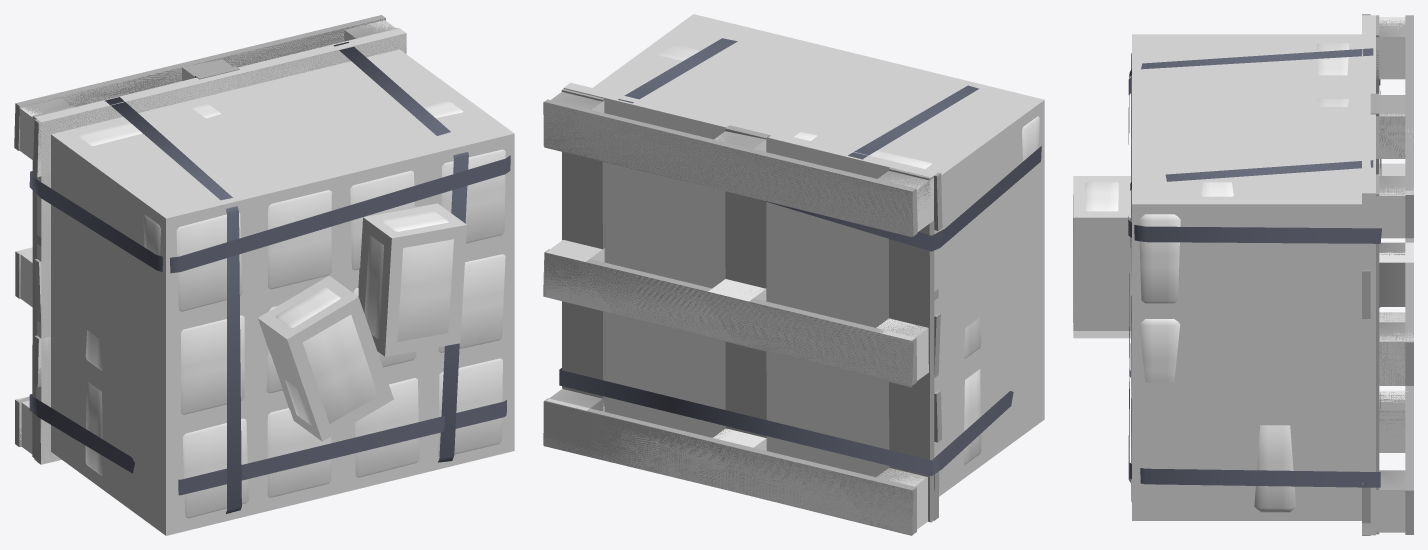
File: coke_pile.glb
3 views of the same model, side by side, from view 1: azimuth 30°, elevation 25°; view 2: azimuth 150°, elevation 25°; view 3: azimuth 270°, elevation 25° (orthographic).
Visible parts, largest first — view 1: c_coke_001, g_coke_single_lod0, c_pallet_01, g_pallet_01, c_coke_002, s_pallet_01, c_coke_003; view 2: c_pallet_01, c_coke_001, g_pallet_01, s_pallet_01, g_coke_single_lod0; view 3: c_coke_001, g_coke_single_lod0, c_pallet_01, g_pallet_01, c_coke_003, s_pallet_01, c_coke_002.
Boxes of the visible parts, <box> form: c_coke_001: <box>51,49,514,535</box>; g_coke_single_lod0: <box>29,42,510,518</box>; c_pallet_01: <box>16,18,406,464</box>; g_pallet_01: <box>14,15,406,464</box>; c_coke_002: <box>258,275,393,441</box>; s_pallet_01: <box>19,30,406,464</box>; c_coke_003: <box>358,203,466,356</box>; c_pallet_01: <box>543,82,938,535</box>; c_coke_001: <box>593,14,1044,496</box>; g_pallet_01: <box>543,89,942,534</box>; s_pallet_01: <box>545,101,933,534</box>; g_coke_single_lod0: <box>559,38,1041,476</box>; c_coke_001: <box>1132,34,1361,520</box>; g_coke_single_lod0: <box>1073,43,1381,512</box>; c_pallet_01: <box>1362,15,1413,535</box>; g_pallet_01: <box>1362,14,1413,535</box>; c_coke_003: <box>1073,176,1130,330</box>; s_pallet_01: <box>1379,17,1413,402</box>; c_coke_002: <box>1073,331,1130,338</box>.
Size of what is drawn, in the model's own units: 1.49 by 1.32 by 1.18.
